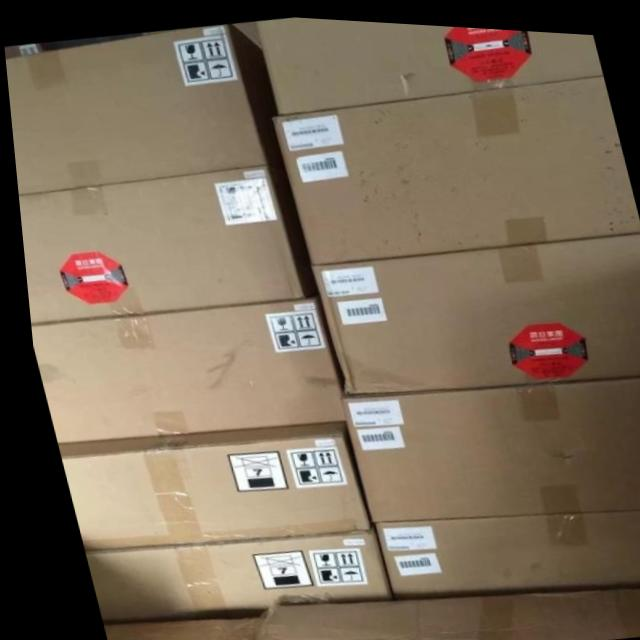box: (271, 69, 639, 260), (310, 226, 640, 391), (15, 159, 314, 321), (4, 21, 280, 195), (336, 367, 640, 519), (25, 296, 335, 443), (51, 420, 362, 549), (257, 14, 603, 111), (74, 527, 380, 623), (365, 502, 640, 595), (244, 577, 640, 640), (93, 614, 252, 640), (4, 43, 41, 58)
